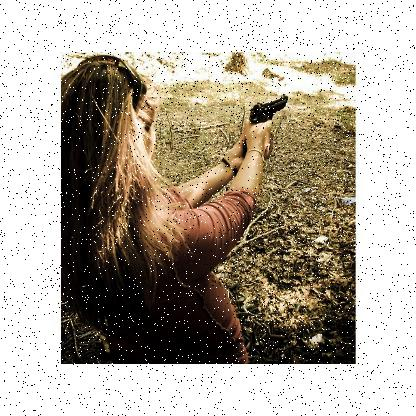gun: (249, 92, 287, 150)
